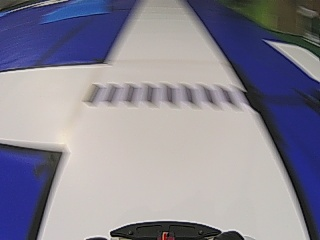CrossWalk: (86, 82, 233, 109)
